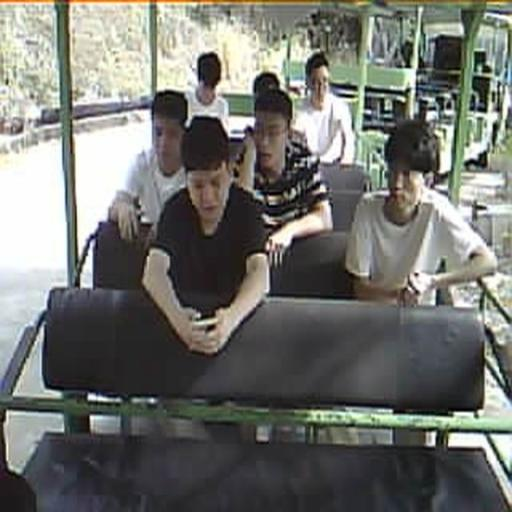persona: (140, 114, 271, 357), (343, 118, 498, 308), (232, 87, 334, 267), (107, 88, 191, 244), (292, 51, 356, 171), (236, 71, 312, 167), (183, 51, 230, 130)
